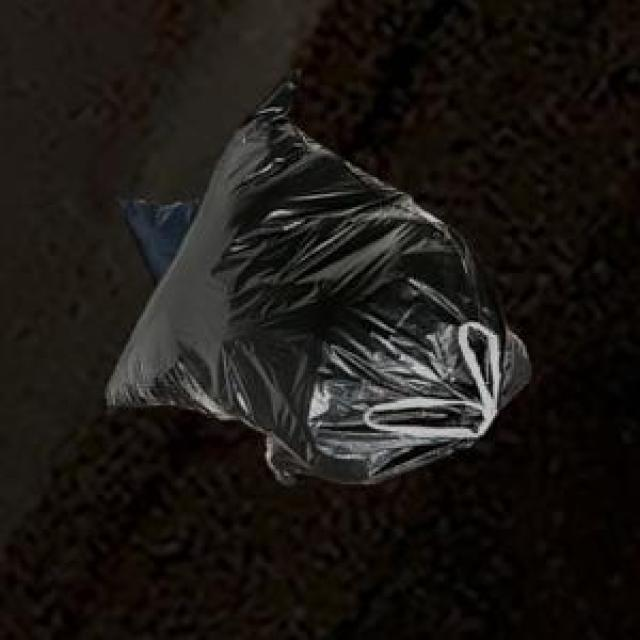Trashbag: (106, 62, 524, 492)
